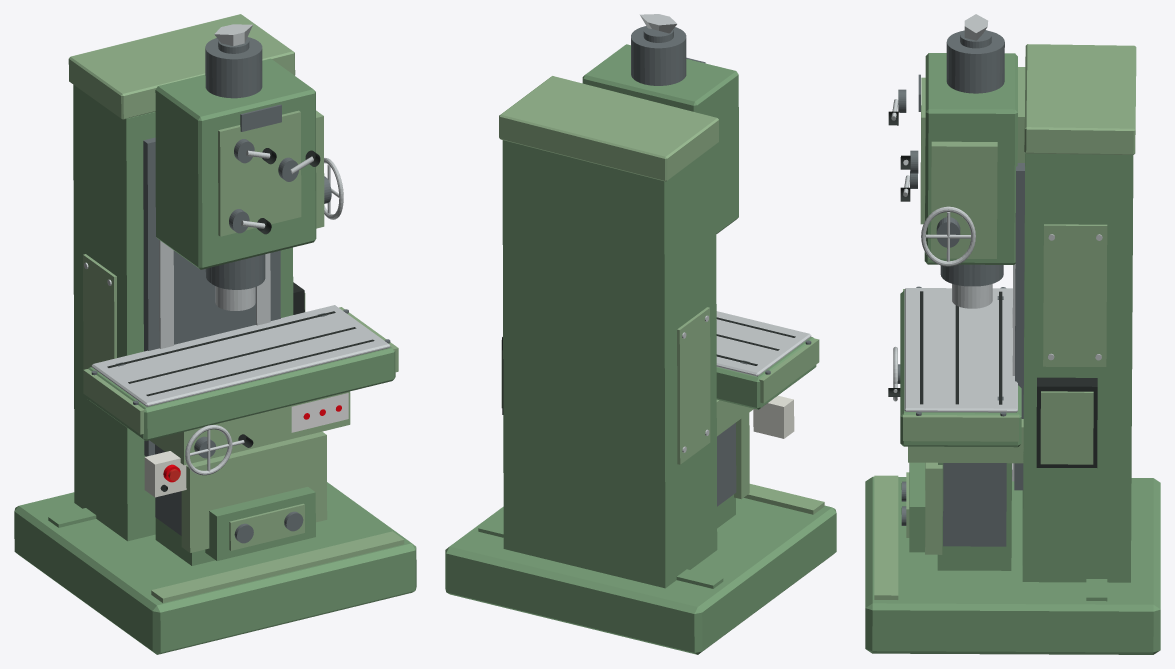
File: TISHIN.fbx
3 renders of one model, left to right at view 1: azimuth 30°, elevation 25°; view 2: azimuth 150°, elevation 25°; view 3: azimuth 270°, elevation 25°, orthographic. The views are drawn at different scales.
Parts seen in each view (by area): view 1: Rear_base_toe, Head_side_gearbox_cover, Table_end_bolt, Knee_vertical_slide, Feed_gearbox_cover, Плоскость, Longitudinal_feed_handwheel_crank, Knee_side_guide, Polished_quill_sleeve, Head_handwheel_rim, Selector_knob.000, Selector_knob.001 (+4 smaller); view 2: Rear_base_toe, Head_side_gearbox_cover, Table_end_bolt, Knee_vertical_slide, Knee_side_guide; view 3: Rear_base_toe, Head_side_gearbox_cover, Table_end_bolt, Knee_vertical_slide, Knee_side_guide, Head_handwheel_rim, Polished_quill_sleeve, Ram_support, Feed_gearbox_cover, T_slot_dark_groove, T_slot_dark_groove.001, Selector_knob.002.
Part boxes in pixels (x1=…): Rear_base_toe: x1=14, y1=14, x2=416, y2=654; Head_side_gearbox_cover: x1=155, y1=24, x2=324, y2=289; Table_end_bolt: x1=83, y1=305, x2=398, y2=440; Knee_vertical_slide: x1=144, y1=391, x2=350, y2=565; Feed_gearbox_cover: x1=229, y1=503, x2=304, y2=550; Плоскость: x1=291, y1=393, x2=348, y2=432; Longitudinal_feed_handwheel_crank: x1=185, y1=425, x2=253, y2=475; Knee_side_guide: x1=155, y1=444, x2=181, y2=535; Polished_quill_sleeve: x1=215, y1=286, x2=255, y2=310; Head_handwheel_rim: x1=324, y1=158, x2=343, y2=219; Selector_knob.000: x1=278, y1=150, x2=320, y2=181; Selector_knob.001: x1=229, y1=209, x2=271, y2=234; Rear_base_toe: x1=445, y1=76, x2=836, y2=654; Head_side_gearbox_cover: x1=582, y1=14, x2=738, y2=233; Table_end_bolt: x1=716, y1=311, x2=819, y2=409; Knee_vertical_slide: x1=716, y1=395, x2=794, y2=528; Knee_side_guide: x1=717, y1=422, x2=736, y2=506; Rear_base_toe: x1=865, y1=44, x2=1160, y2=654; Head_side_gearbox_cover: x1=918, y1=14, x2=1017, y2=286; Table_end_bolt: x1=900, y1=286, x2=1021, y2=447; Knee_vertical_slide: x1=908, y1=419, x2=1023, y2=570; Knee_side_guide: x1=943, y1=463, x2=1006, y2=546; Head_handwheel_rim: x1=921, y1=206, x2=975, y2=266; Polished_quill_sleeve: x1=952, y1=284, x2=992, y2=308; Ram_support: x1=1017, y1=67, x2=1025, y2=162; Feed_gearbox_cover: x1=901, y1=472, x2=909, y2=537; T_slot_dark_groove: x1=920, y1=291, x2=923, y2=404; T_slot_dark_groove.001: x1=999, y1=291, x2=1002, y2=404; Selector_knob.002: x1=888, y1=89, x2=906, y2=125.
Size of the model in its own units: 235 by 475 by 224.
